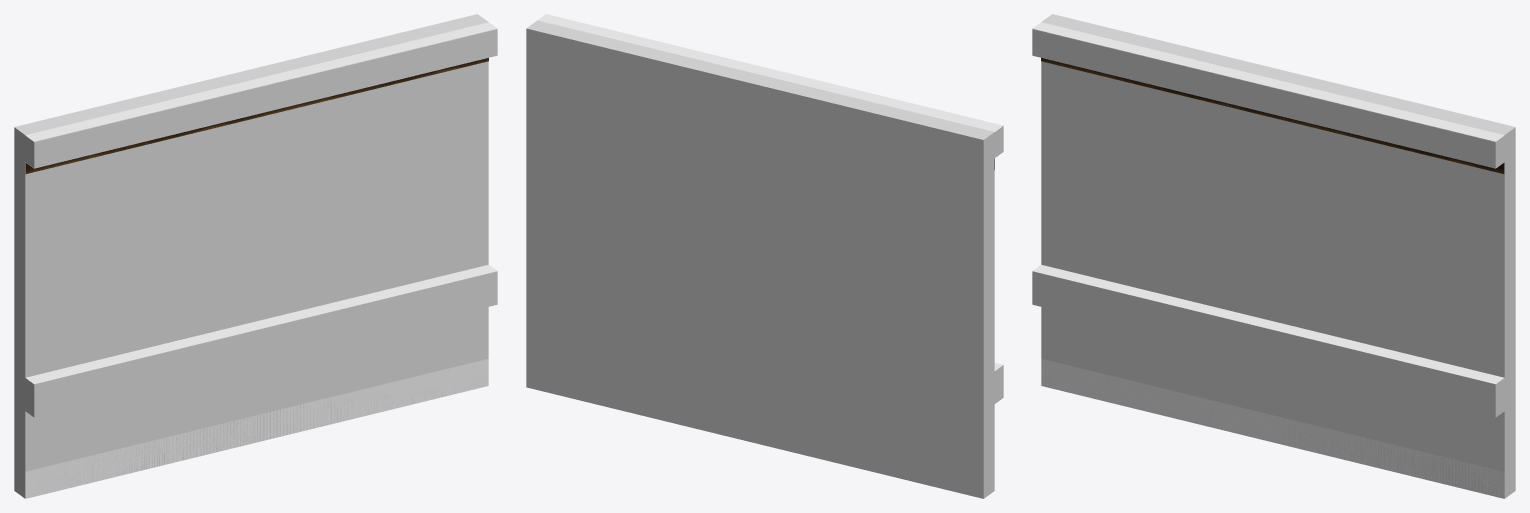
File: Wall_A_Exterior_Window_01_x4.fbx
3 renders of one model, left to right at view 1: azimuth 30°, elevation 25°; view 2: azimuth 150°, elevation 25°; view 3: azimuth 330°, elevation 25°, orthographic.
Parts seen in each view (by area): view 1: C_Wall_A_Exterior_Window_01_x4, Wall_A_Exterior_Window_01_x4; view 2: C_Wall_A_Exterior_Window_01_x4, Wall_A_Exterior_Window_01_x4; view 3: C_Wall_A_Exterior_Window_01_x4, Wall_A_Exterior_Window_01_x4.
Boxes of the visible parts, box(x1,y1,x2,y2) form: C_Wall_A_Exterior_Window_01_x4: box(14, 14, 497, 498); Wall_A_Exterior_Window_01_x4: box(25, 22, 497, 498); C_Wall_A_Exterior_Window_01_x4: box(526, 20, 1003, 498); Wall_A_Exterior_Window_01_x4: box(538, 14, 1003, 370); C_Wall_A_Exterior_Window_01_x4: box(1032, 14, 1515, 498); Wall_A_Exterior_Window_01_x4: box(1032, 22, 1504, 498).
Size of the model in its own units: 4 by 3 by 0.3017.
